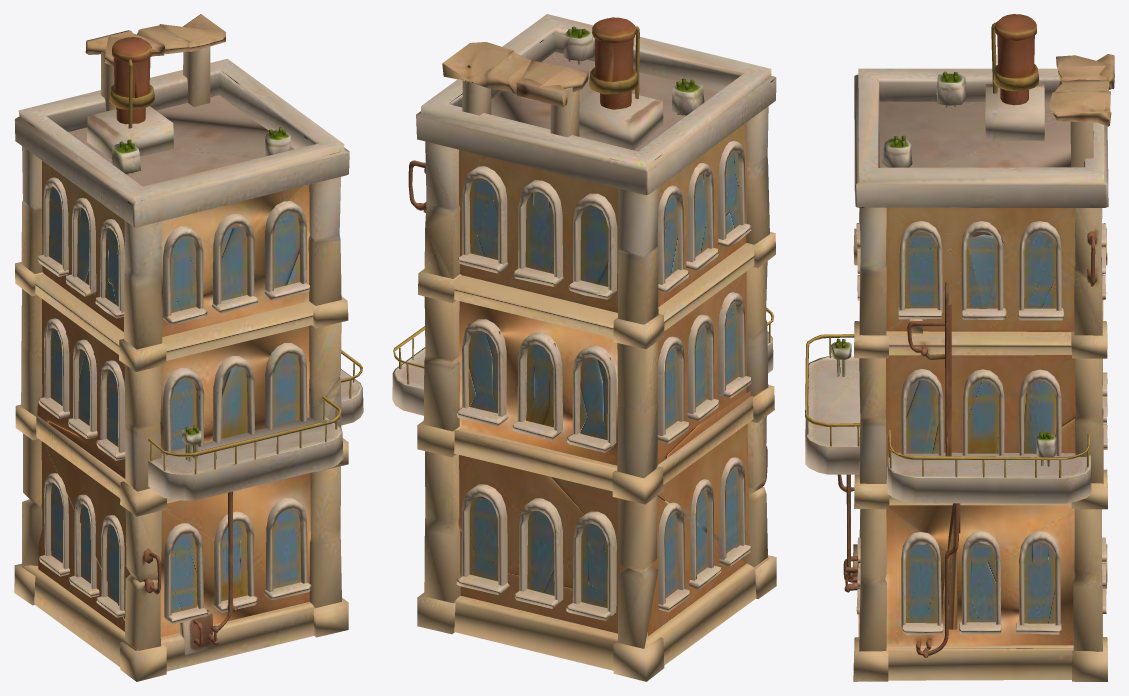
File: twin-tower.glb
3 renders of one model, left to right at view 1: azimuth 30°, elevation 25°; view 2: azimuth 150°, elevation 25°; view 3: azimuth 270°, elevation 25°, orthographic. The views are drawn at different scales.
Parts seen in each view (by area): view 1: twin-tower; view 2: twin-tower; view 3: twin-tower.
Part boxes in pixels (<box>): twin-tower: <box>14,14,363,681</box>; twin-tower: <box>392,14,776,681</box>; twin-tower: <box>805,14,1114,681</box>.
Bounding box in the file's own units: 4 × 8.4 × 4.
Materials: 1 (1 with a texture image).
